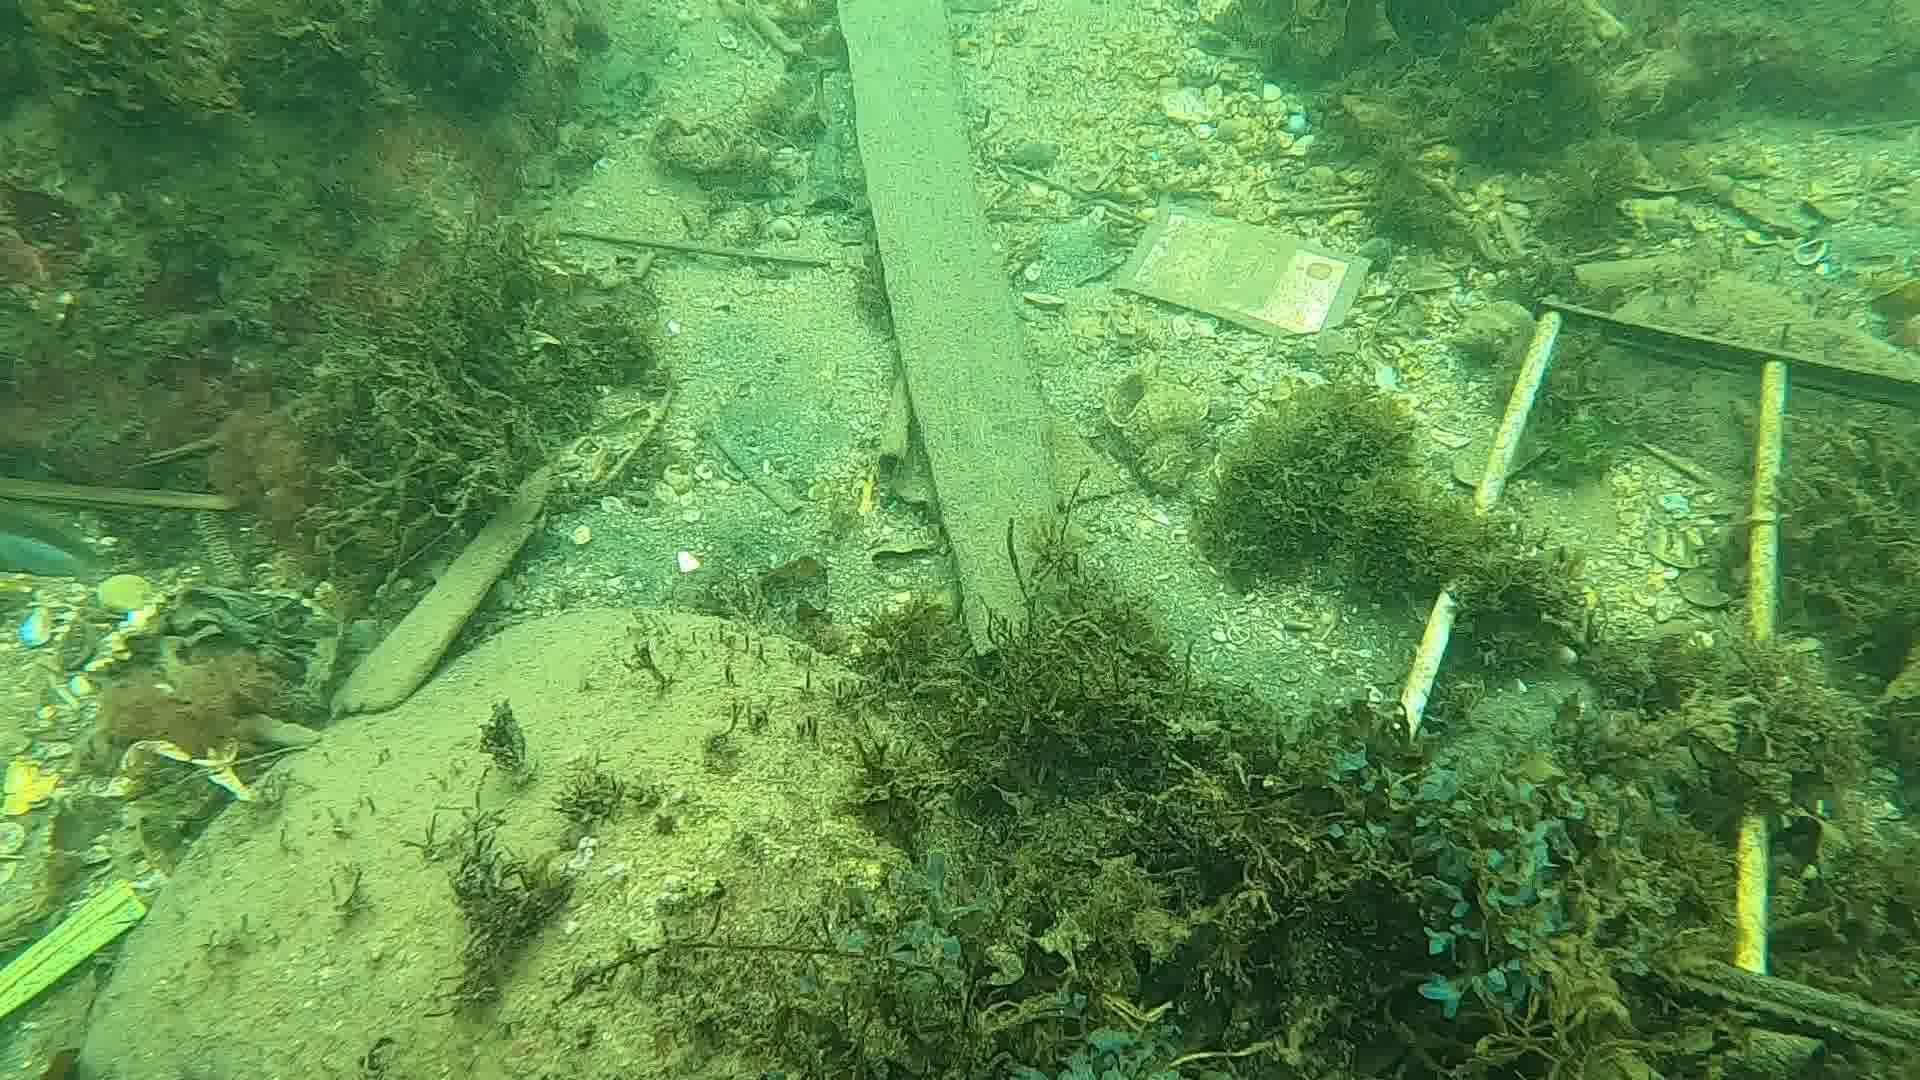wood: (833, 0, 1071, 659)
